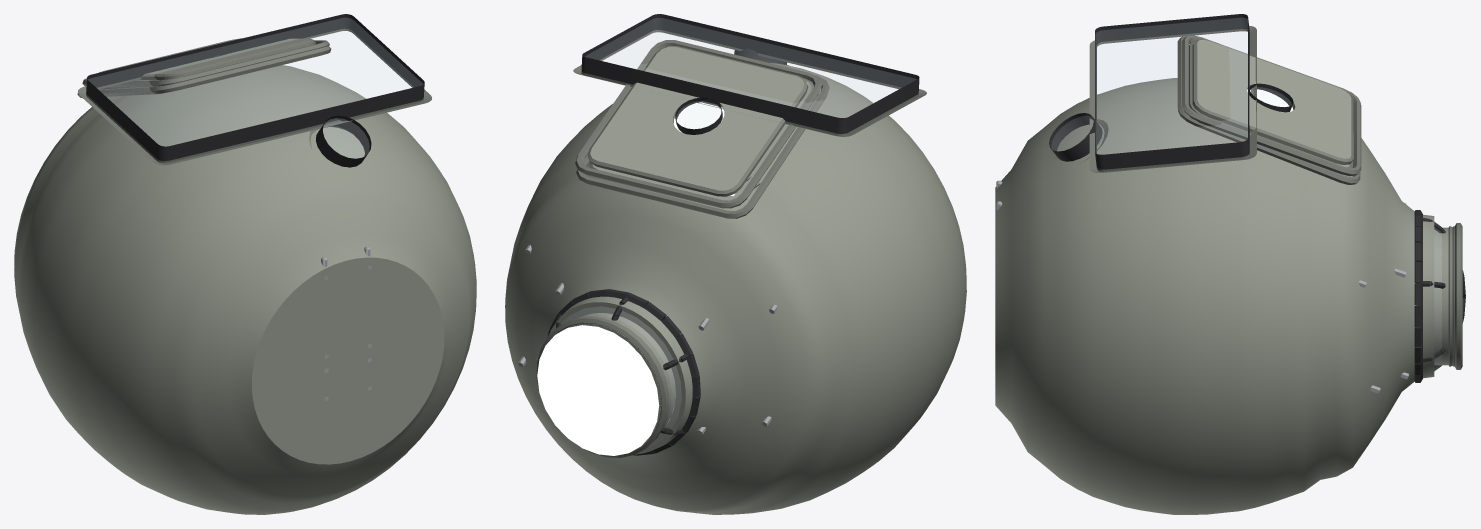
File: vostok.glb
3 views of the same model, side by side, from view 1: azimuth 30°, elevation 25°; view 2: azimuth 150°, elevation 25°; view 3: azimuth 270°, elevation 25° (orthographic). The views are drawn at different scales.
Parts seen in each view (by area): view 1: shell_cupola, glass_panoramic0, frame_panoramic0, door_inward, hatchframe_side, shell_panoramic, hatchframe_inward, glass_small0, frame_small0, shell_small; view 2: shell_cupola, door_inward, plug_top, frame_panoramic0, glass_panoramic0, shell_panoramic, hatchframe_inward, frame_cupola, hatchframe_side, hatchframe_top, glass_cupola, docking (+4 smaller); view 3: shell_cupola, glass_panoramic0, door_inward, frame_panoramic0, hatchframe_inward, shell_panoramic, docking, frame_cupola, hatchframe_side, frame_small0, hatchframe_top, glass_small0 (+2 smaller).
Boxes of the visible parts, x1,y1,x2,y2 form: shell_cupola: (14, 65, 476, 514); glass_panoramic0: (89, 18, 422, 145); frame_panoramic0: (77, 14, 431, 165); door_inward: (99, 38, 315, 80); hatchframe_side: (77, 46, 331, 97); shell_panoramic: (95, 65, 418, 210); hatchframe_inward: (82, 40, 329, 87); glass_small0: (323, 118, 368, 157); frame_small0: (309, 115, 371, 167); shell_small: (302, 129, 378, 183); shell_cupola: (505, 63, 966, 514); door_inward: (587, 46, 808, 196); plug_top: (537, 325, 659, 455); frame_panoramic0: (573, 14, 926, 136); glass_panoramic0: (585, 18, 915, 117); shell_panoramic: (548, 67, 902, 454); hatchframe_inward: (575, 40, 821, 208); frame_cupola: (548, 289, 700, 455); hatchframe_side: (576, 75, 829, 218); hatchframe_top: (536, 317, 668, 457); glass_cupola: (561, 307, 680, 445); docking: (557, 313, 675, 438); shell_cupola: (995, 78, 1417, 514); glass_panoramic0: (1096, 18, 1247, 153); door_inward: (1192, 39, 1353, 164); frame_panoramic0: (1089, 14, 1256, 172); hatchframe_inward: (1181, 35, 1361, 176); shell_panoramic: (1092, 96, 1434, 378); docking: (1434, 226, 1454, 366); frame_cupola: (1414, 210, 1465, 382); hatchframe_side: (1177, 36, 1360, 184); frame_small0: (1049, 113, 1108, 163); hatchframe_top: (1454, 223, 1462, 369); glass_small0: (1052, 116, 1092, 150).
Size of the model in its own units: 2.15 by 2.3 by 2.32.
